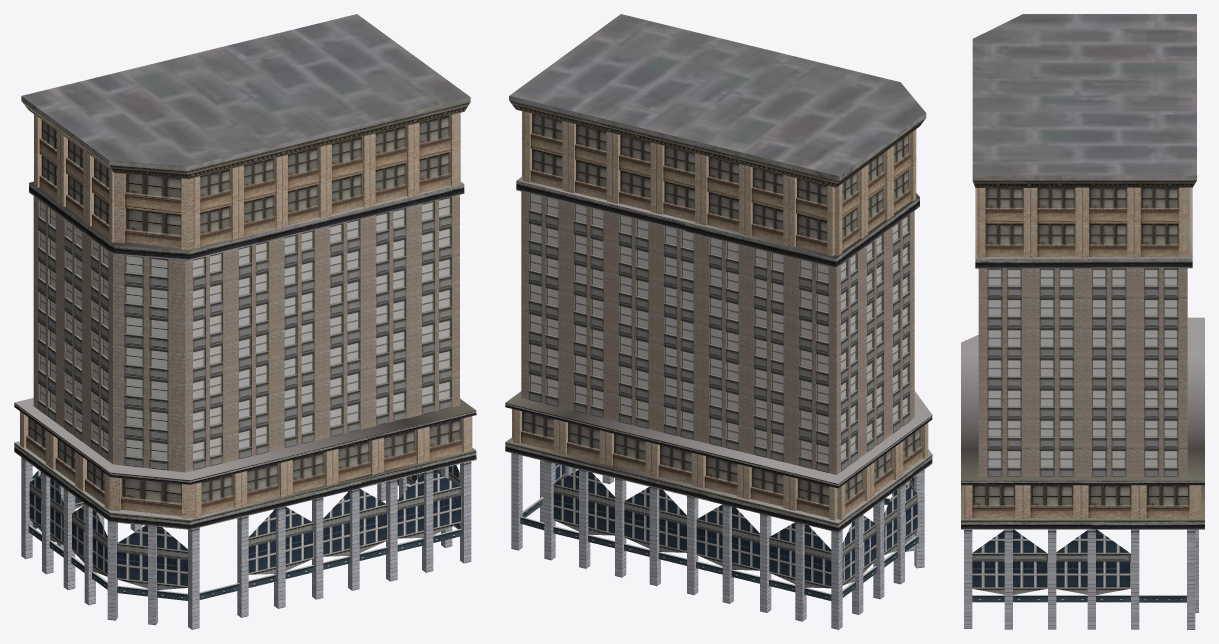
Rendered from game_ready_mid_poly_building.glb.
The picture shows the model from 3 angles, left to right: view 1: azimuth 30°, elevation 25°; view 2: azimuth 150°, elevation 25°; view 3: azimuth 270°, elevation 25°; orthographic projection.
Visible parts, largest first — view 1: Plane.093_Atlas_0; view 2: Plane.093_Atlas_0; view 3: Plane.093_Atlas_0.
Part boxes in pixels (left/top/right/bottom): Plane.093_Atlas_0: left=14, top=14, right=476, bottom=629; Plane.093_Atlas_0: left=505, top=14, right=932, bottom=629; Plane.093_Atlas_0: left=961, top=14, right=1204, bottom=629.
Size of the model in its own units: 0.2544 by 0.3307 by 0.1608.
1 material, 1 textured.
